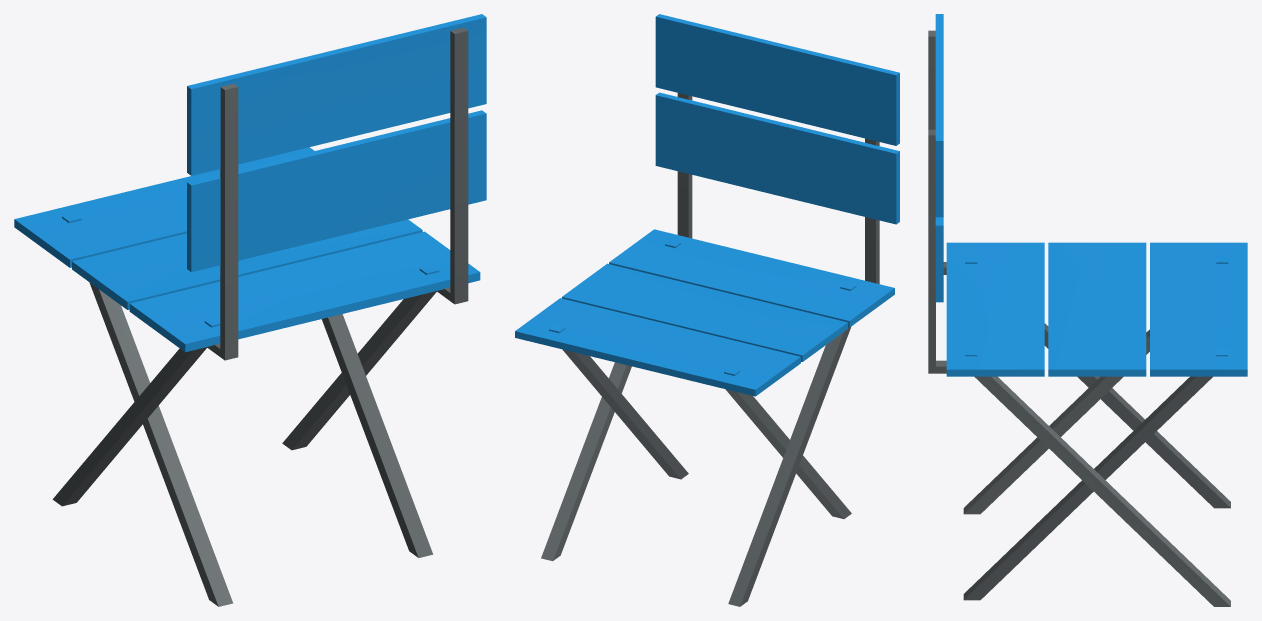
Rendered from SM_Chair_01.fbx.
3 renders of one model, left to right at view 1: azimuth 30°, elevation 25°; view 2: azimuth 150°, elevation 25°; view 3: azimuth 270°, elevation 25°, orthographic. The views are drawn at different scales.
Parts seen in each view (by area): view 1: SM_Chair_01; view 2: SM_Chair_01; view 3: SM_Chair_01.
Part boxes in pixels (box(x1,y1,x2,y2)): SM_Chair_01: box(14, 14, 486, 606); SM_Chair_01: box(515, 14, 899, 606); SM_Chair_01: box(928, 14, 1247, 606).
Size of the model in its own units: 40.03 by 69.95 by 42.6.
1 material, 1 textured.
